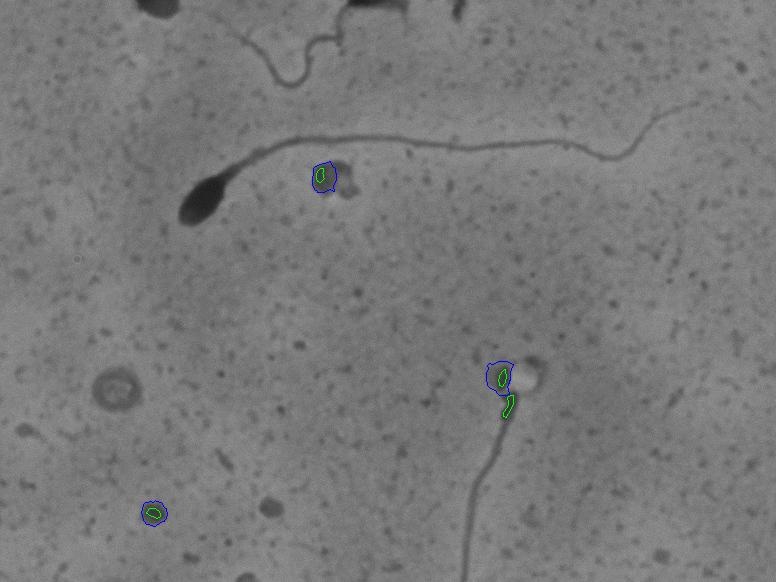Normal: (167, 87, 727, 237)
